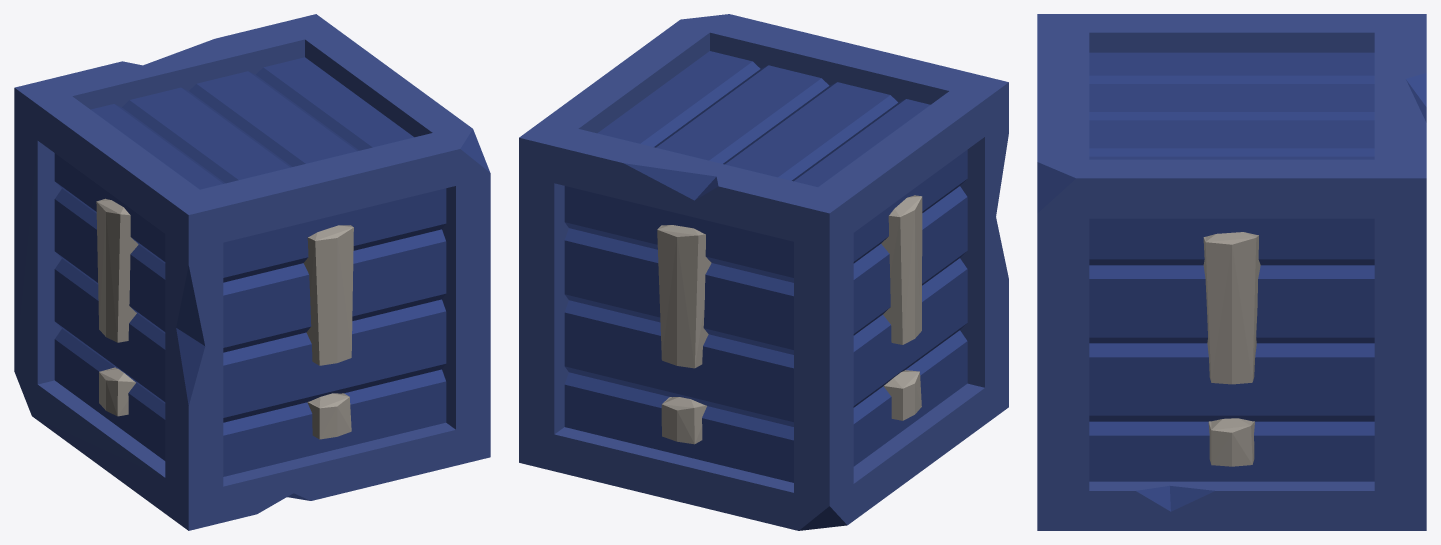
Rendered from SM_Prop_Crate_Exclamation_01.fbx.
3 views of the same model, side by side, from view 1: azimuth 30°, elevation 25°; view 2: azimuth 150°, elevation 25°; view 3: azimuth 270°, elevation 25° (orthographic). The views are drawn at different scales.
Parts seen in each view (by area): view 1: SM_Prop_Crate_Exclamation_01; view 2: SM_Prop_Crate_Exclamation_01; view 3: SM_Prop_Crate_Exclamation_01.
Part boxes in pixels (left/top/right/bottom): SM_Prop_Crate_Exclamation_01: left=14, top=14, right=490, bottom=530; SM_Prop_Crate_Exclamation_01: left=519, top=14, right=1008, bottom=530; SM_Prop_Crate_Exclamation_01: left=1037, top=14, right=1426, bottom=530.
Size of the model in its own units: 99.65 by 99.65 by 99.65.
